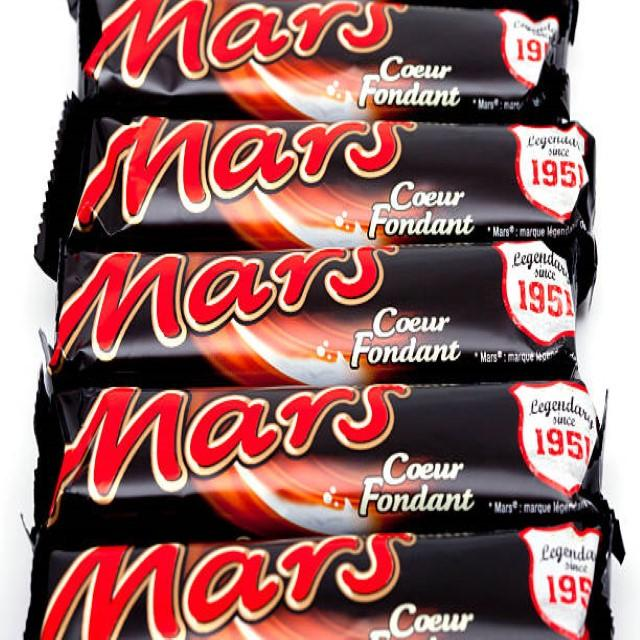mars_chocolate: (28, 378, 625, 505), (48, 110, 630, 233), (35, 247, 595, 370), (75, 3, 582, 107), (28, 545, 620, 627)
